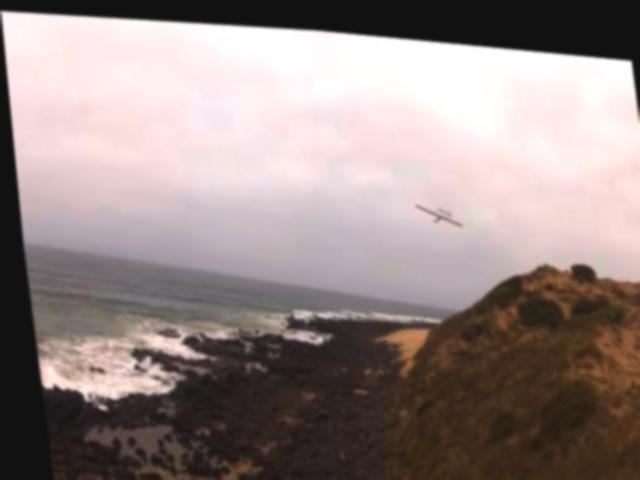uav: (409, 186, 461, 231)
